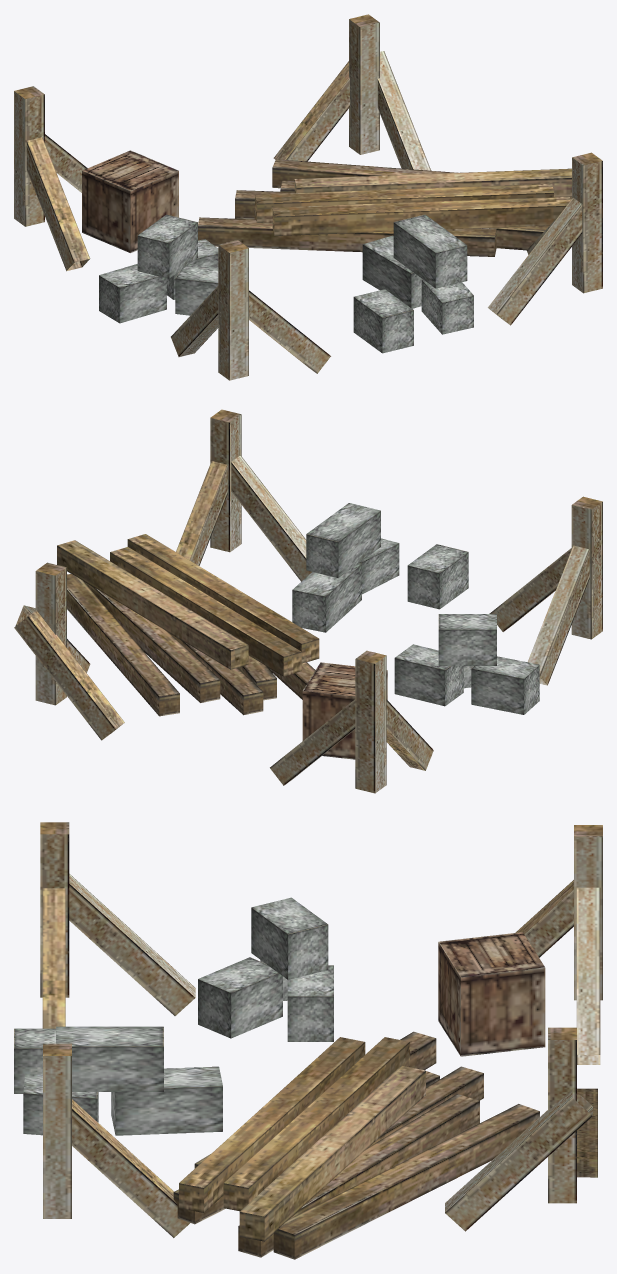
File: found_2x2_a.dae
3 renders of one model, top to bottom at view 1: azimuth 30°, elevation 25°; view 2: azimuth 150°, elevation 25°; view 3: azimuth 270°, elevation 25°, orthographic. The views are drawn at different scales.
Visible parts, largest first — view 1: Object10-Pivot; view 2: Object10-Pivot; view 3: Object10-Pivot.
Boxes of the visible parts, left/top/right/bottom form: Object10-Pivot: left=14, top=14, right=602, bottom=380; Object10-Pivot: left=14, top=409, right=602, bottom=793; Object10-Pivot: left=14, top=822, right=602, bottom=1259.
Bounding box in the file's own units: 10.74 × 8.99 × 3.08.
